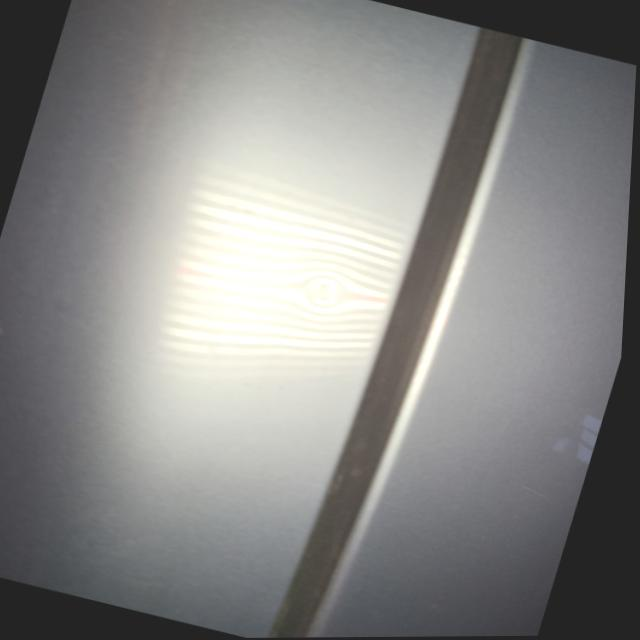PDR-Dent: (277, 256, 371, 323)
